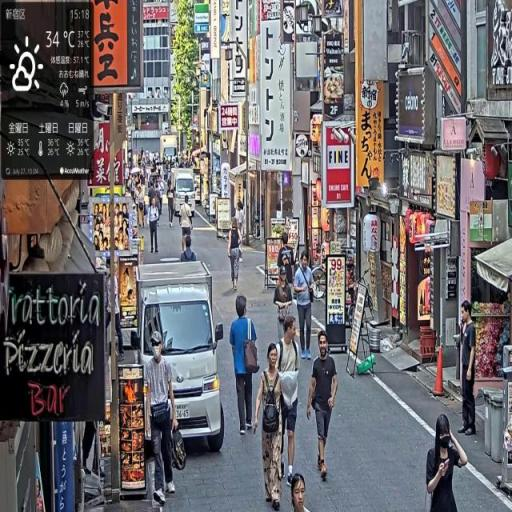person: (252, 342, 292, 512), (146, 333, 183, 507), (308, 331, 341, 482), (230, 294, 262, 439), (424, 410, 469, 512), (277, 315, 301, 484), (460, 302, 479, 436), (295, 251, 316, 361), (228, 217, 245, 291), (290, 474, 313, 512), (148, 193, 161, 255), (167, 184, 177, 228)
